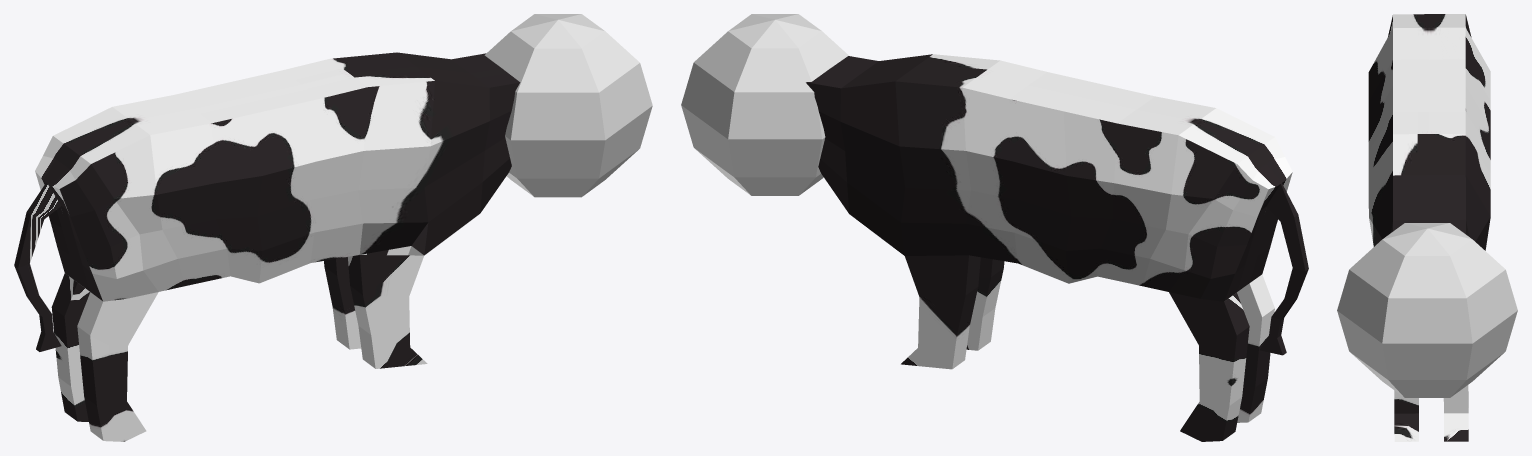
Rendered from VacaEspacial.fbx.
The picture shows the model from 3 angles, left to right: view 1: azimuth 30°, elevation 25°; view 2: azimuth 150°, elevation 25°; view 3: azimuth 270°, elevation 25°; orthographic projection. The views are drawn at different scales.
Parts seen in each view (by area): view 1: Cube; view 2: Cube; view 3: Cube.
Boxes of the visible parts, <box> form: Cube: <box>14,14,652,441</box>; Cube: <box>681,14,1308,441</box>; Cube: <box>1337,14,1517,441</box>.
Size of the model in its own units: 550 by 260 by 148.
2 materials, 1 textured.
